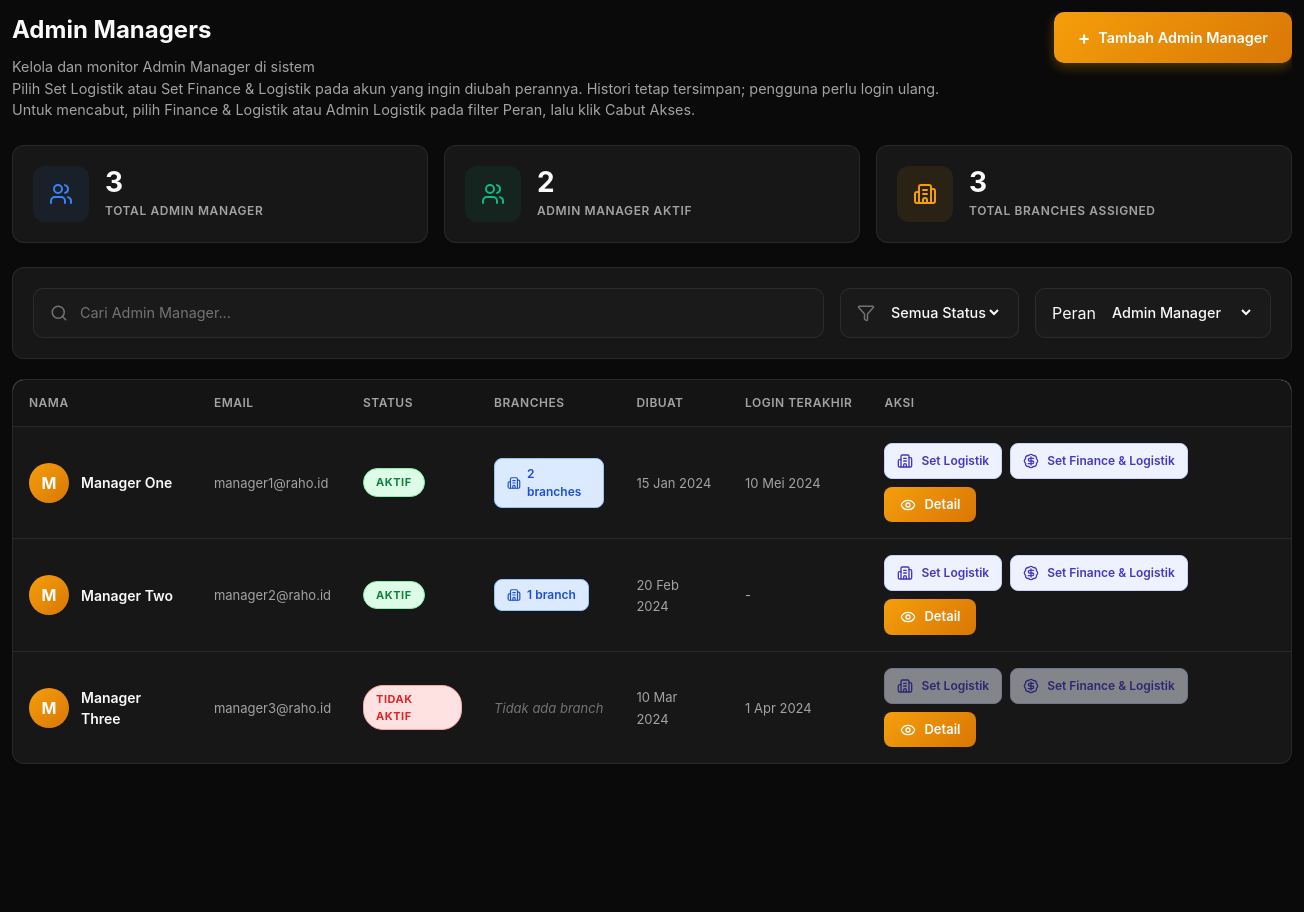
AdminManagersTab › Finance and Logistics assignment › filters converted accounts and lets Super Admin revoke their access
Check: the text "Manager One" is shown, box [81,472,172,493]
Select "Finance & Logistik" in the dropdown labelled "Peran" at (1181, 313), box [1108,303,1254,322]
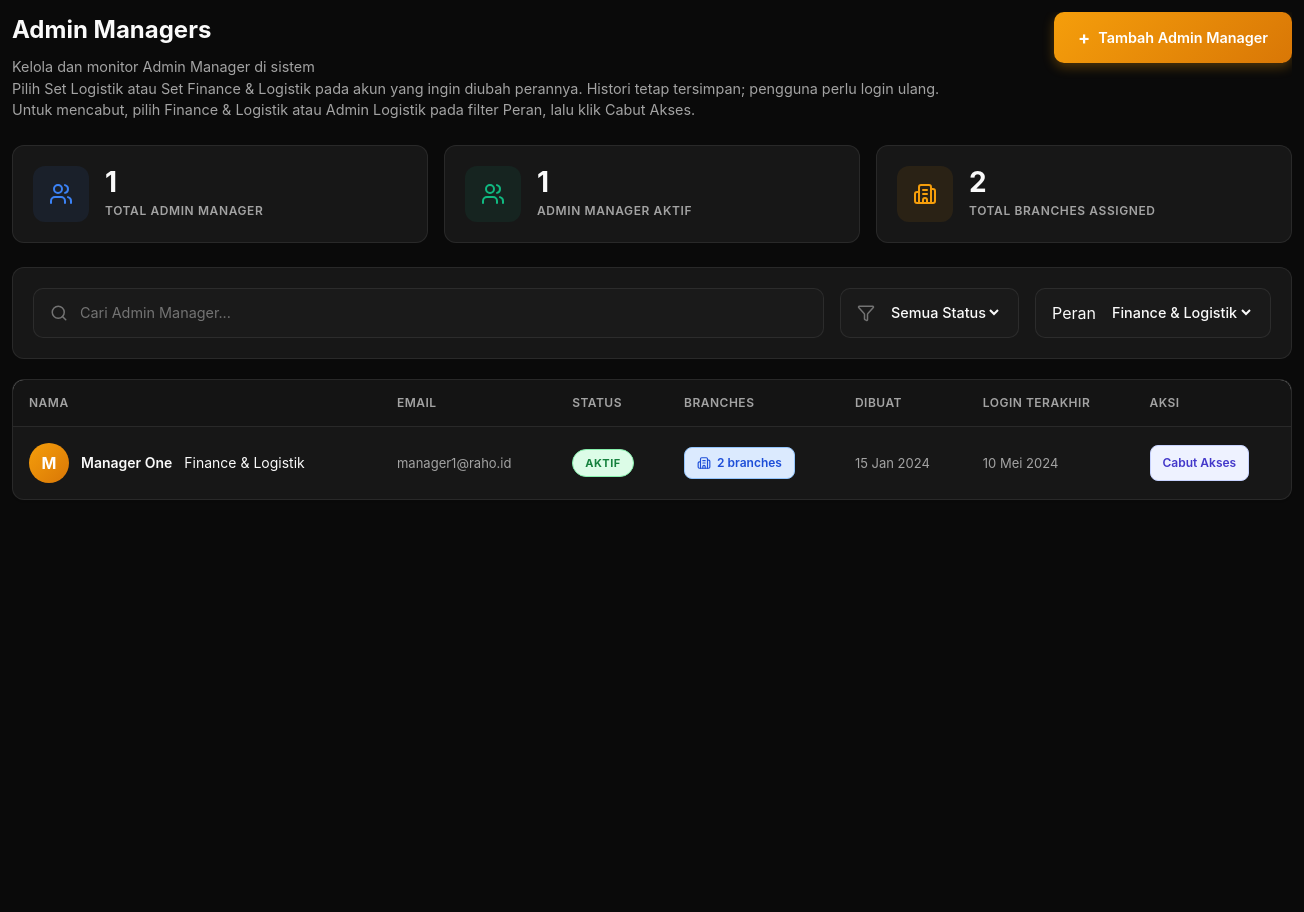
Click the button with aria-label "Cabut Akses untuk Manager One" at (1199, 463), box [1150,445,1249,481]
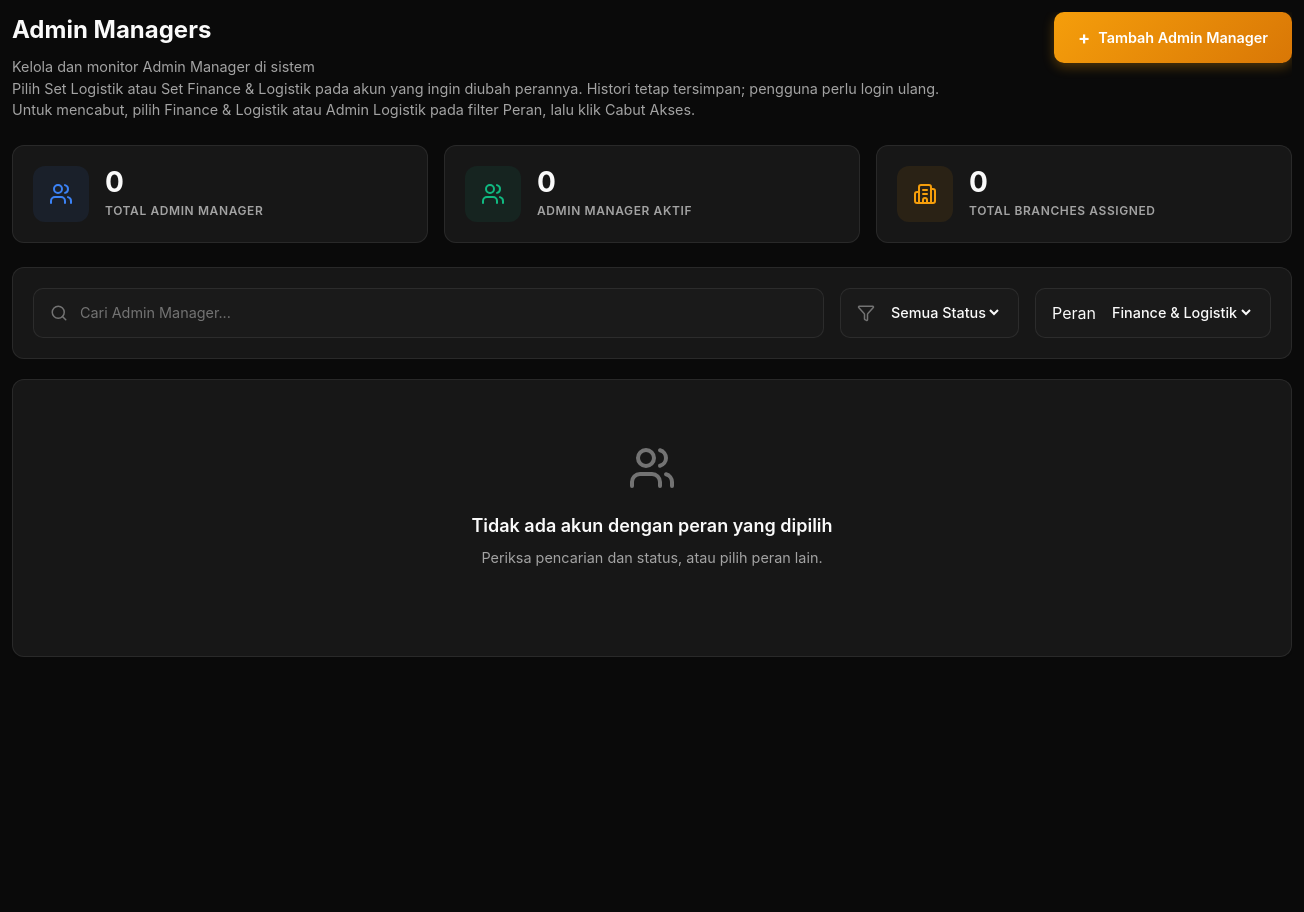
Check: the text "Manager One" is gone
